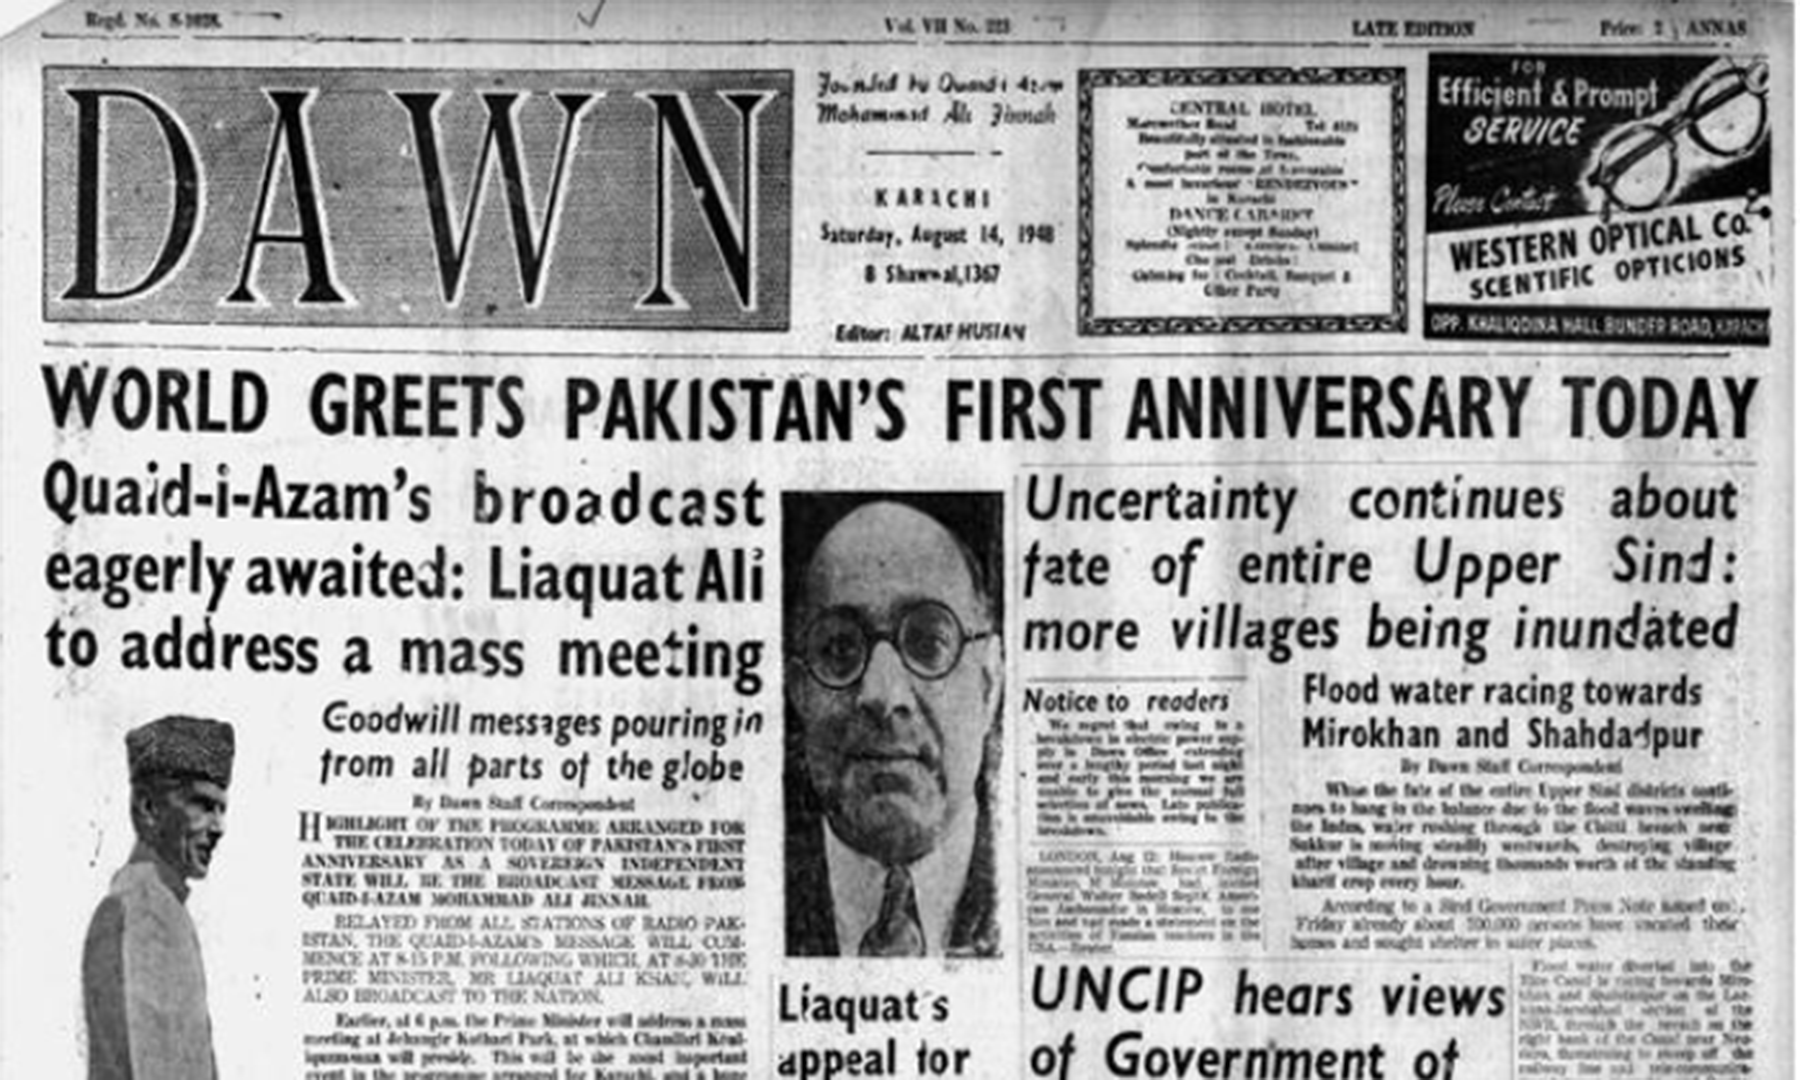news_paper: (8, 1, 1792, 1080)
